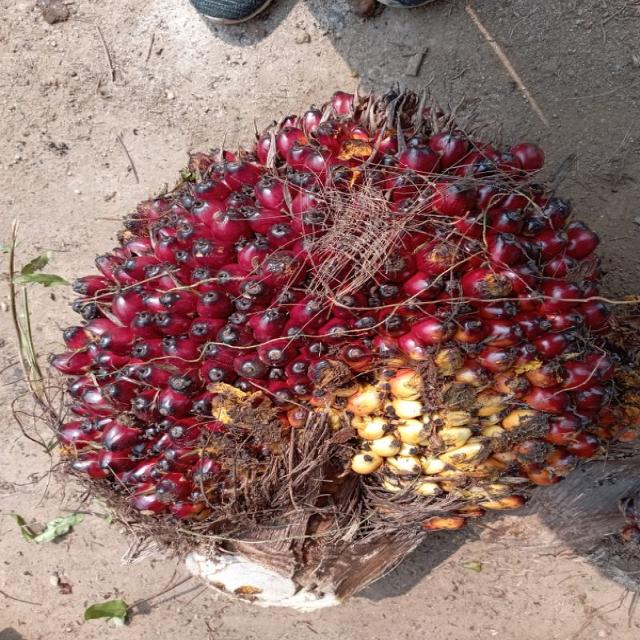fraksi 1: (24, 82, 640, 615)
